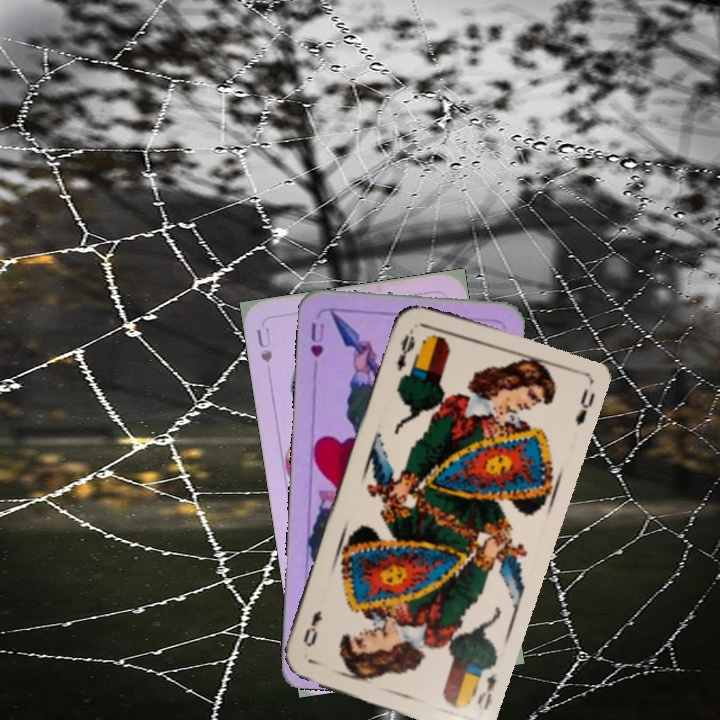EO: (392, 324, 418, 374), (473, 669, 500, 712)
HU: (306, 318, 327, 360)
SU: (252, 324, 275, 365)
